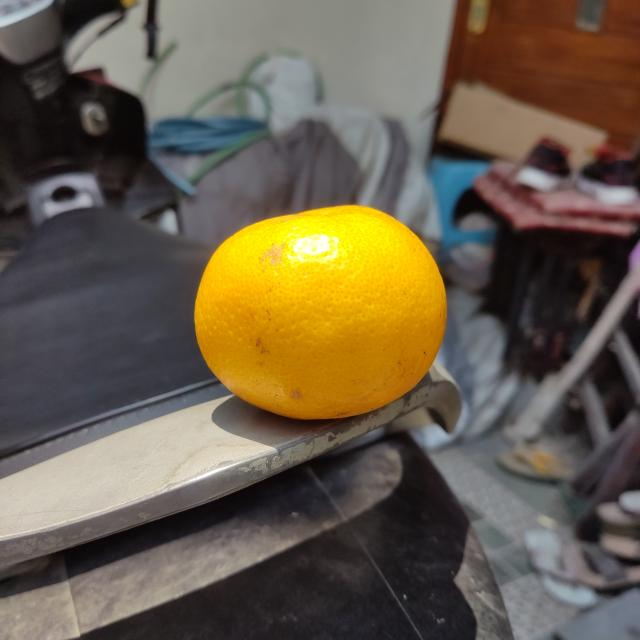orange: (190, 204, 449, 419)
